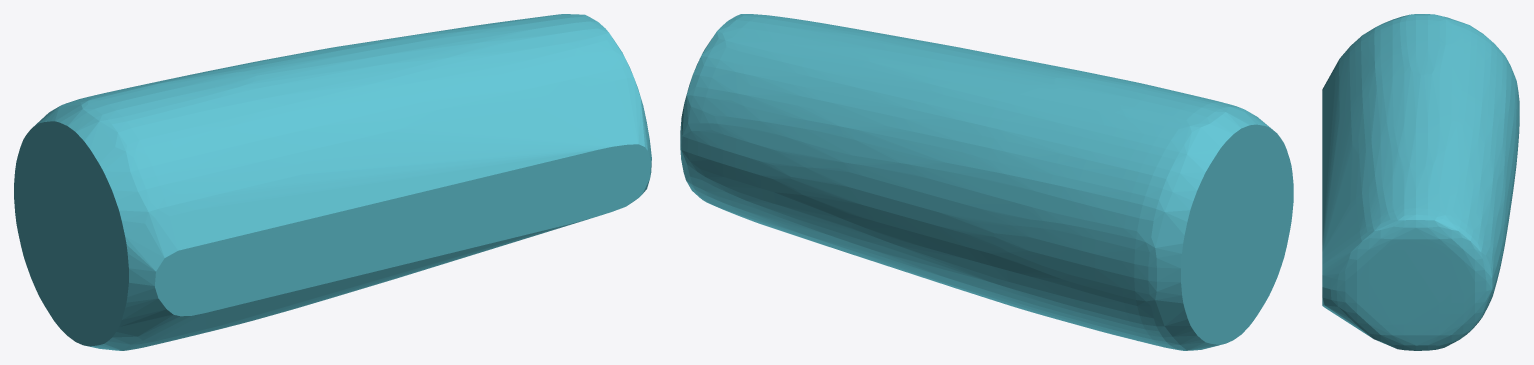
3 renders of one model, left to right at view 1: azimuth 30°, elevation 25°; view 2: azimuth 150°, elevation 25°; view 3: azimuth 270°, elevation 25°, orthographic. The views are drawn at different scales.
Size of the model in its own units: 0.0558 by 0.0235 by 0.0239.
